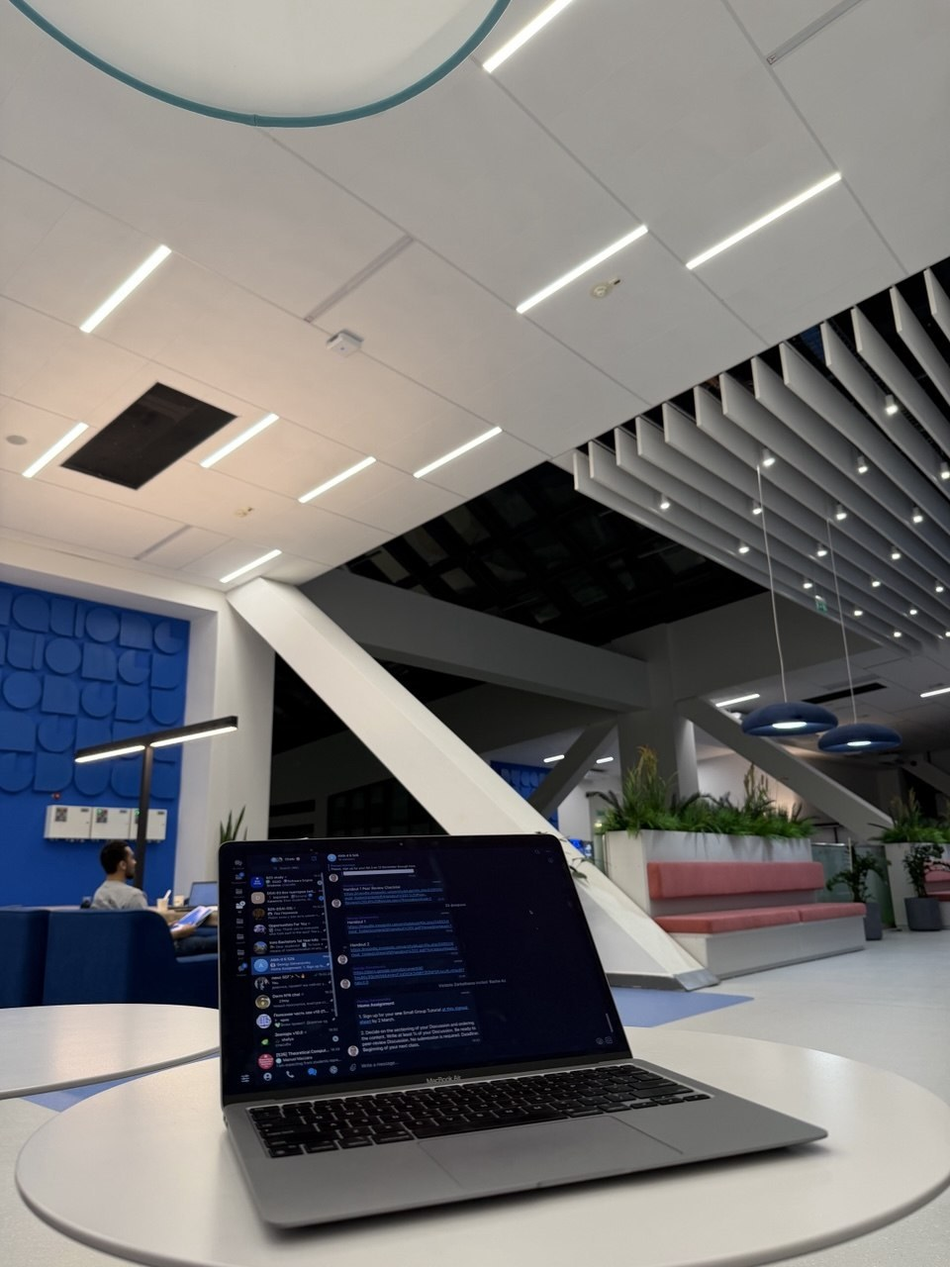laptop: (217, 832, 829, 1230), (184, 881, 218, 907)
